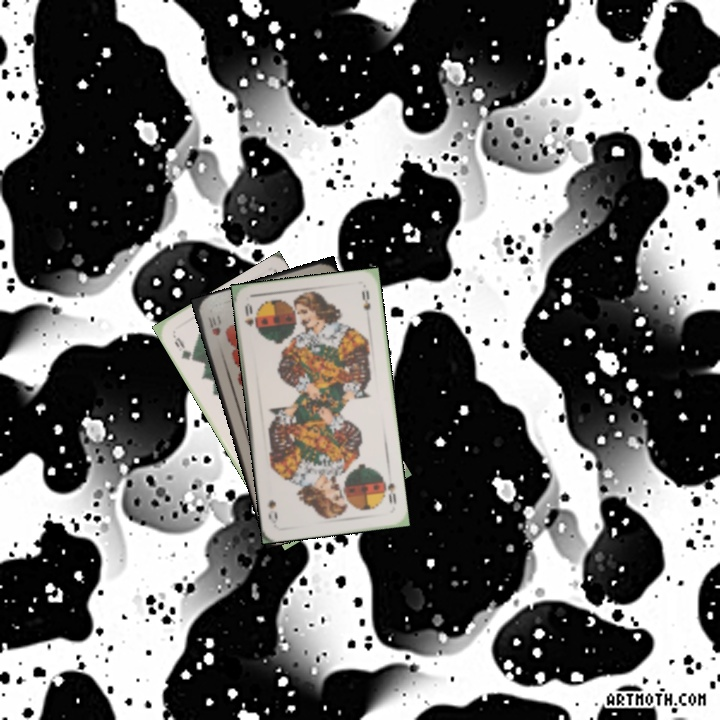G9: (169, 331, 199, 365)
H10: (204, 312, 223, 338)
SO: (240, 299, 256, 329), (384, 479, 399, 507)
